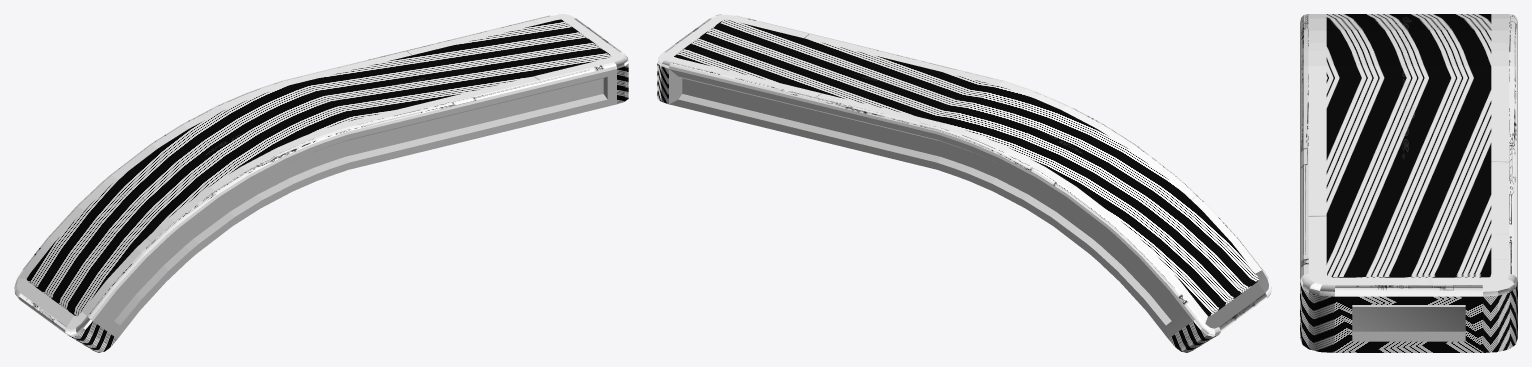
The model's file is Bendy_ramp.FBX.
3 renders of one model, left to right at view 1: azimuth 30°, elevation 25°; view 2: azimuth 150°, elevation 25°; view 3: azimuth 270°, elevation 25°, orthographic. The views are drawn at different scales.
Visible parts, largest first — view 1: Box001; view 2: Box001; view 3: Box001.
Part boxes in pixels (x1,y1,x2,y2): Box001: (14, 14, 628, 352); Box001: (657, 14, 1271, 352); Box001: (1300, 14, 1517, 352).
Bounding box in the file's own units: 16.22 × 4.69 × 3.44.
